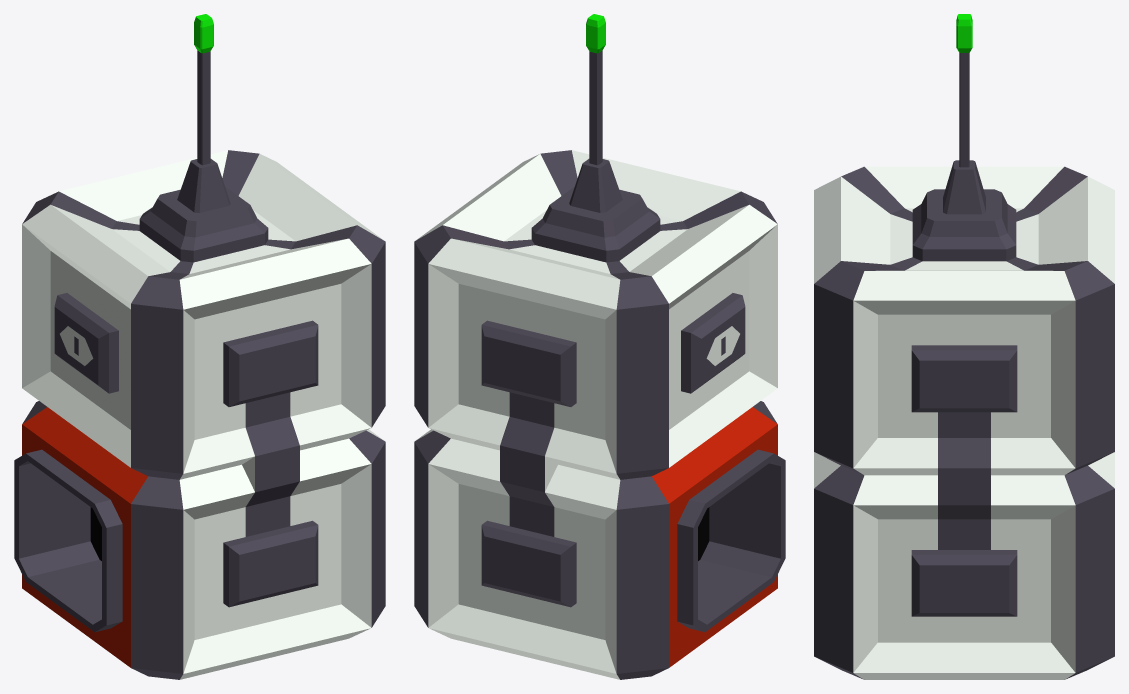
Rendered from Eater.fbx.
3 renders of one model, left to right at view 1: azimuth 30°, elevation 25°; view 2: azimuth 150°, elevation 25°; view 3: azimuth 270°, elevation 25°, orthographic. The views are drawn at different scales.
Visible parts, largest first — view 1: Eater; view 2: Eater; view 3: Eater.
Boxes of the visible parts, <box> form: Eater: <box>14,14,385,679</box>; Eater: <box>414,14,785,679</box>; Eater: <box>814,14,1114,679</box>.
Bounding box in the file's own units: 4.25 × 8.96 × 4.
